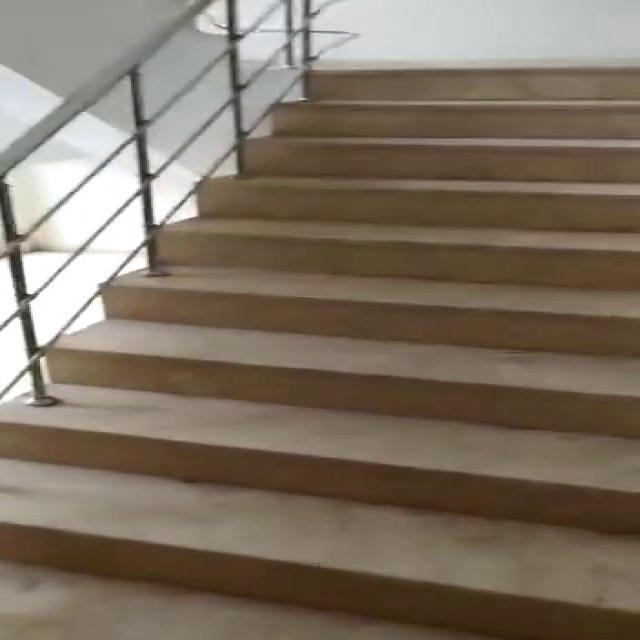stair: (4, 65, 640, 640)
